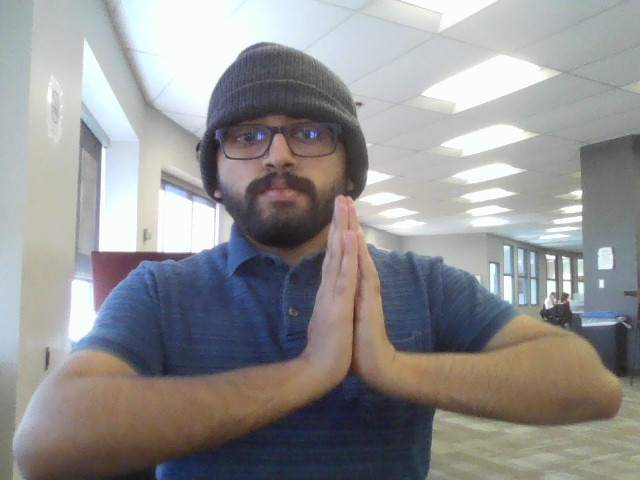start: (281, 192, 429, 405)
